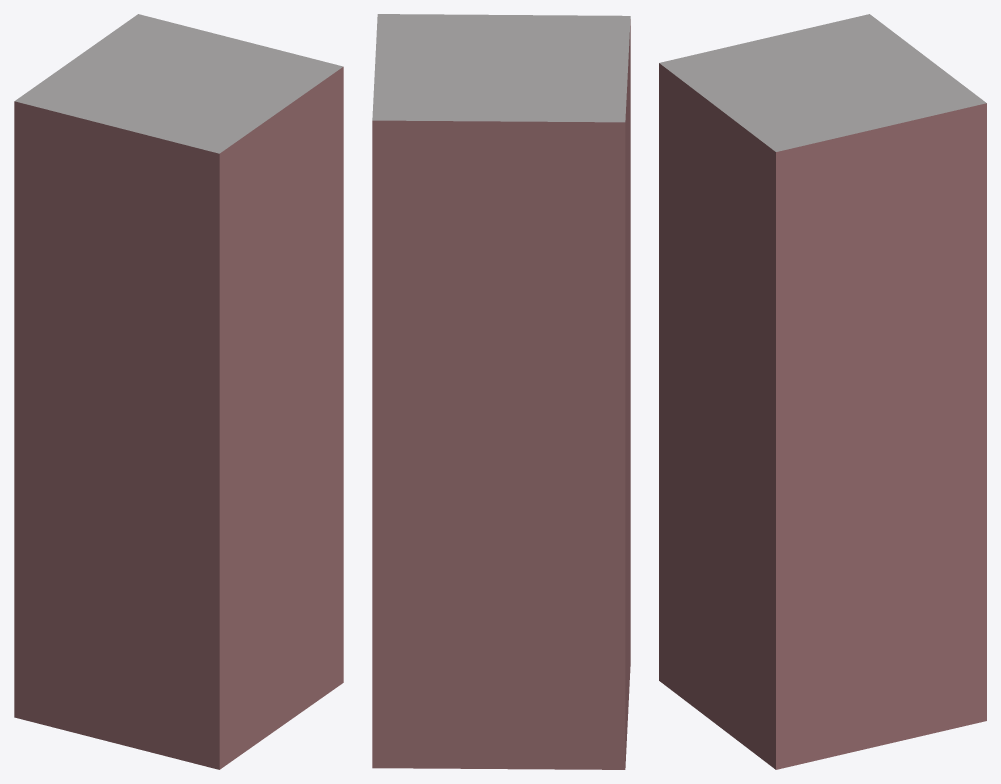
Rendered from nyc-1016034-0.glb.
The picture shows the model from 3 angles, left to right: view 1: azimuth 30°, elevation 25°; view 2: azimuth 150°, elevation 25°; view 3: azimuth 270°, elevation 25°; orthographic projection. The views are drawn at different scales.
Visible parts, largest first — view 1: nyc-1016034-0; view 2: nyc-1016034-0; view 3: nyc-1016034-0.
Boxes of the visible parts, box(x1,y1,x2,y2) form: nyc-1016034-0: box(14, 14, 343, 769); nyc-1016034-0: box(372, 14, 630, 769); nyc-1016034-0: box(659, 14, 986, 769).
Bounding box in the file's own units: 40.9 × 85.26 × 41.01.
